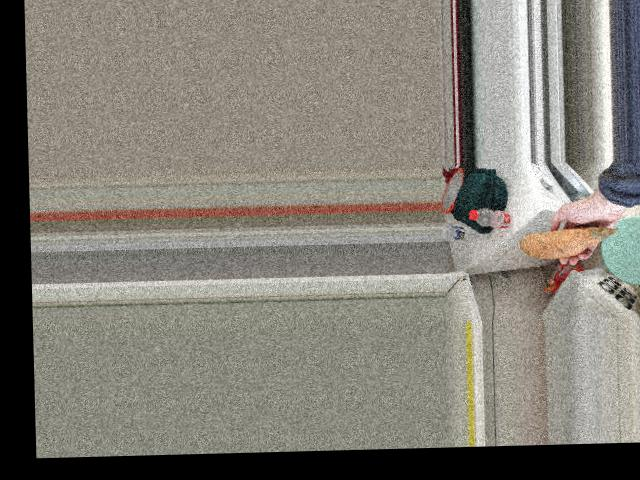sweet_potato: (523, 232, 628, 263)
